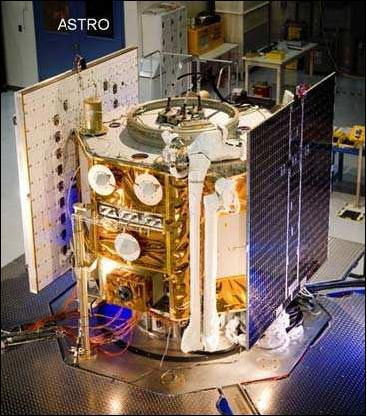antenna: (132, 172, 164, 207), (87, 163, 117, 197), (114, 232, 143, 262), (160, 94, 177, 117), (176, 100, 192, 123), (191, 95, 207, 114)
body: (71, 94, 276, 354)
solar: (13, 45, 142, 295), (243, 70, 339, 351)
thruster: (126, 96, 240, 146)
